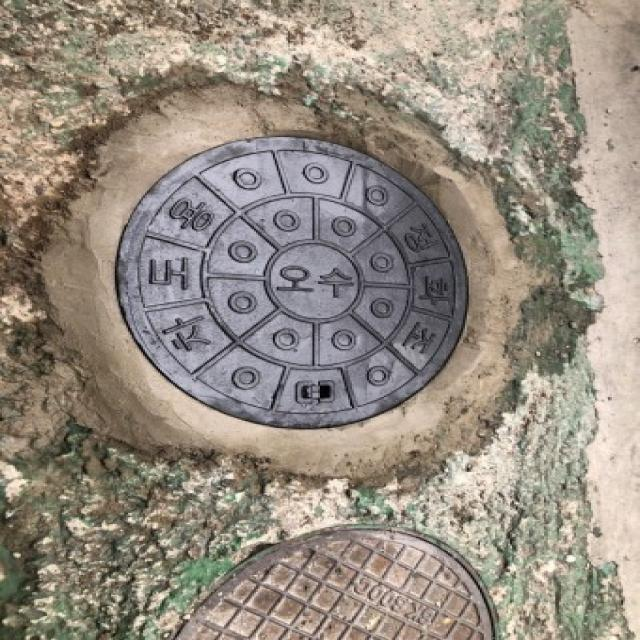manhole: (116, 136, 468, 427), (175, 528, 495, 640)
